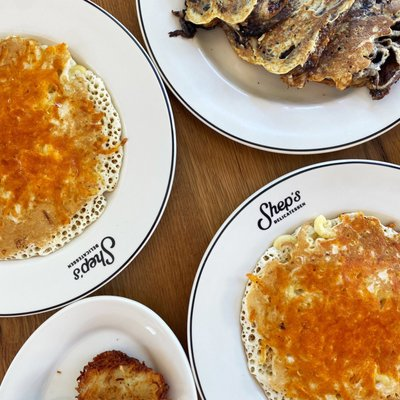soup: (184, 0, 399, 99)
sushi: (0, 296, 199, 400)
